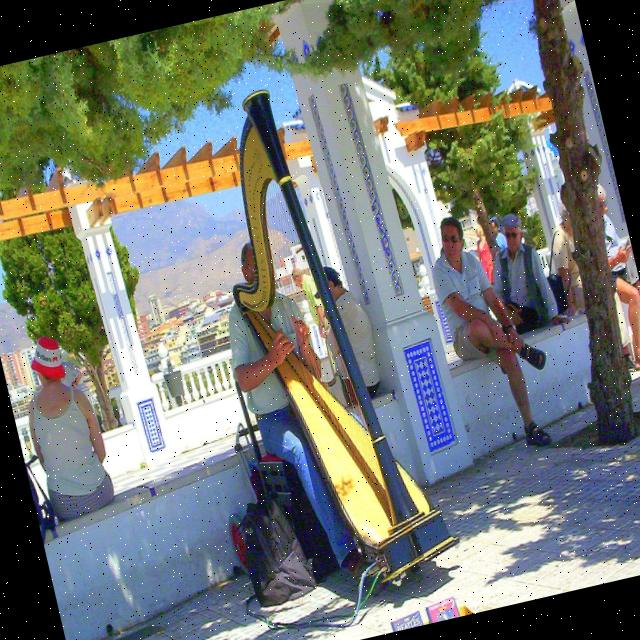harp: (189, 68, 468, 608)
